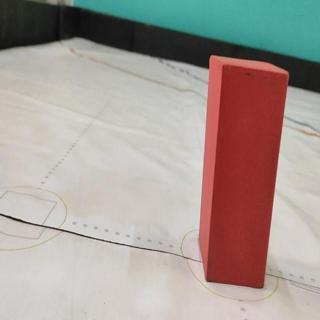redbox: (203, 55, 277, 291)
